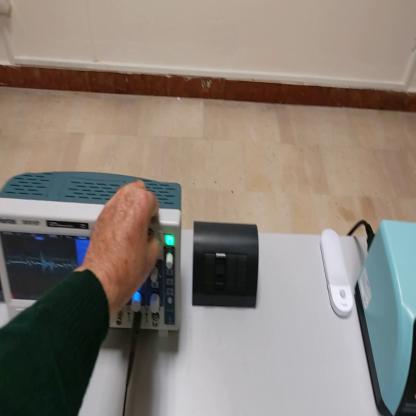hand: (86, 182, 161, 308)
oscilloscope: (2, 172, 186, 342)
welder station: (356, 211, 416, 415)
